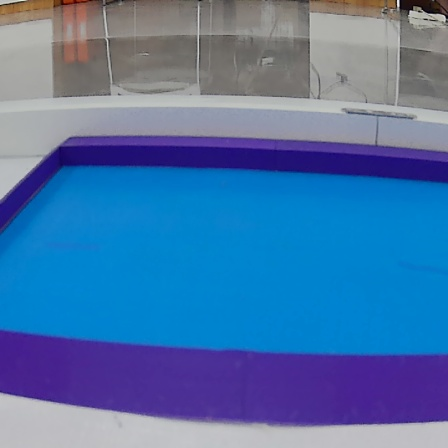blue_aim: (2, 132, 448, 429)
